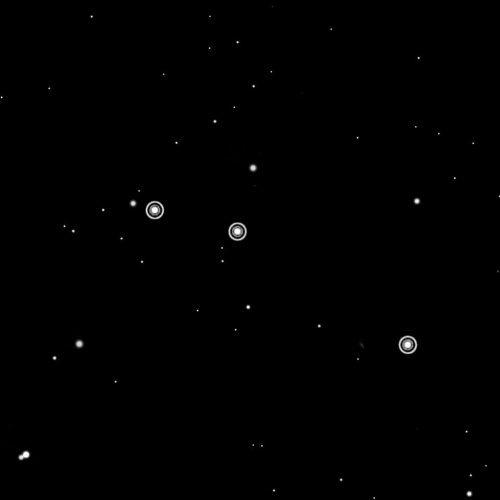vulpecula: (141, 196, 421, 360)
